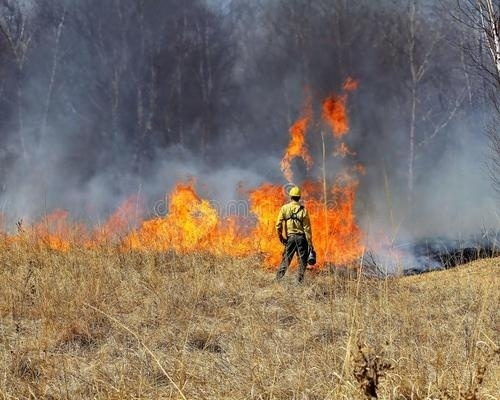fire: (256, 78, 377, 267)
